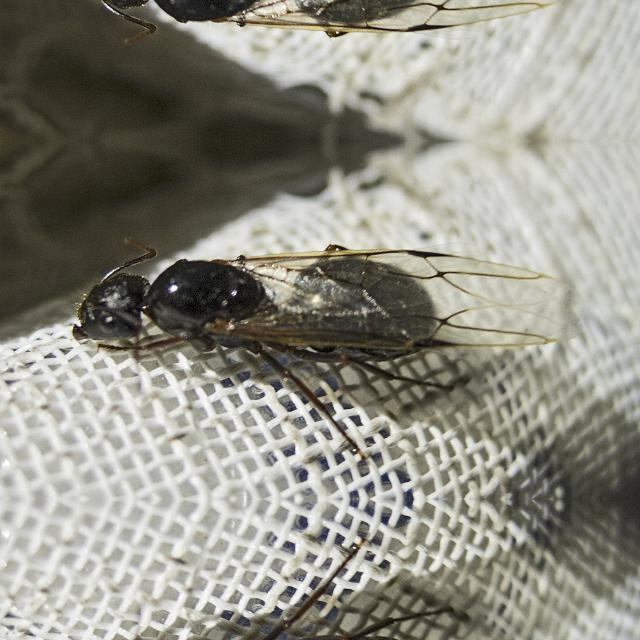Camponotus: (41, 223, 433, 422), (41, 574, 433, 640), (41, 0, 433, 56)
